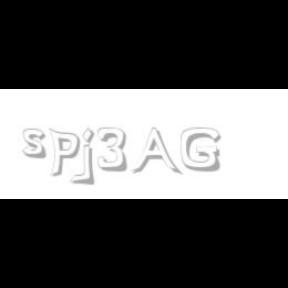3: (97, 128, 128, 172)
A: (131, 128, 179, 176)
G: (180, 128, 220, 172)
P: (48, 128, 80, 178)
j: (80, 128, 108, 186)
s: (23, 128, 51, 160)
